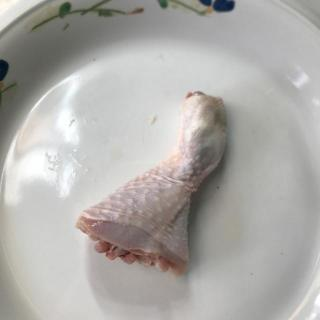Ayam: (74, 90, 229, 282)
